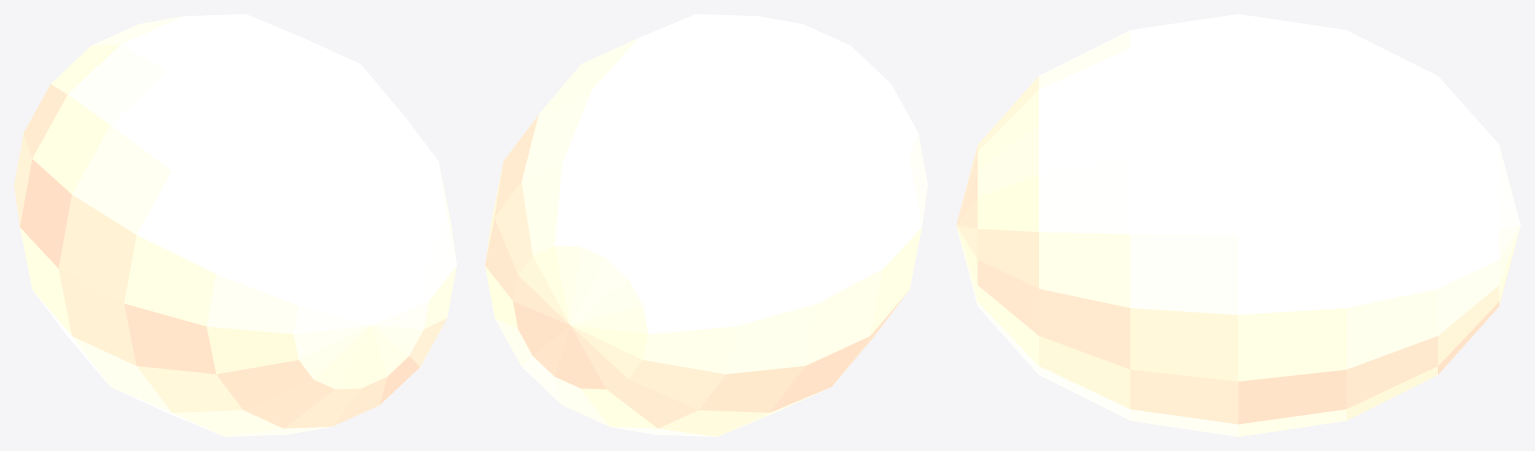
The model's file is HealOrb.glb.
The picture shows the model from 3 angles, left to right: view 1: azimuth 30°, elevation 25°; view 2: azimuth 150°, elevation 25°; view 3: azimuth 270°, elevation 25°; orthographic projection. The views are drawn at different scales.
Parts seen in each view (by area): view 1: HealOrb_core; view 2: HealOrb_core; view 3: HealOrb_core.
Boxes of the visible parts, left/top/right/bottom form: HealOrb_core: left=14, top=14, right=456, bottom=436; HealOrb_core: left=485, top=14, right=927, bottom=436; HealOrb_core: left=956, top=14, right=1520, bottom=436.
Bounding box in the file's own units: 0.252 × 0.252 × 0.336.
